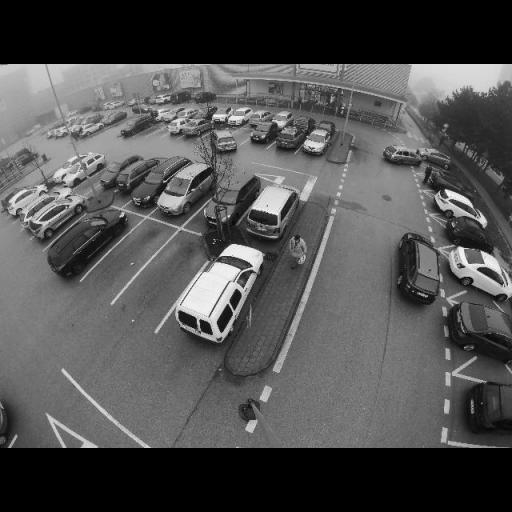busy: (169, 248, 266, 348), (53, 210, 123, 270), (446, 298, 510, 362), (447, 246, 508, 298), (157, 163, 214, 218), (397, 233, 443, 301), (243, 184, 298, 240), (206, 173, 258, 225), (466, 377, 512, 434), (29, 195, 80, 239), (140, 157, 186, 201), (107, 154, 155, 190), (447, 216, 492, 254), (54, 152, 102, 186), (8, 185, 52, 218), (436, 191, 481, 217), (382, 144, 424, 170), (304, 124, 336, 156), (277, 125, 307, 150), (122, 114, 154, 136), (211, 129, 240, 153), (248, 124, 277, 145), (182, 117, 210, 136), (228, 107, 254, 125), (211, 106, 234, 124), (170, 118, 192, 135), (158, 107, 180, 123), (81, 124, 106, 138), (103, 110, 126, 125), (195, 106, 216, 121), (250, 110, 272, 124), (272, 112, 293, 126), (52, 126, 68, 140), (178, 108, 200, 118)
free: (150, 261, 190, 291), (114, 244, 144, 266), (83, 170, 106, 188), (150, 124, 168, 138)
